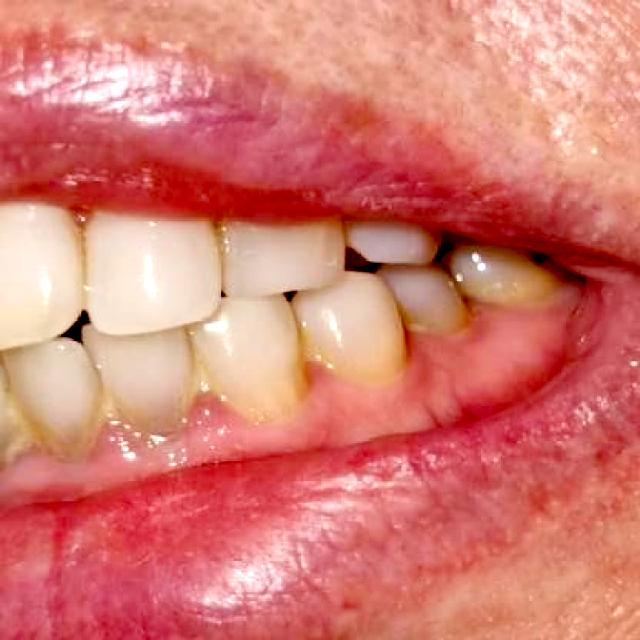Plaque: (7, 362, 405, 489)
